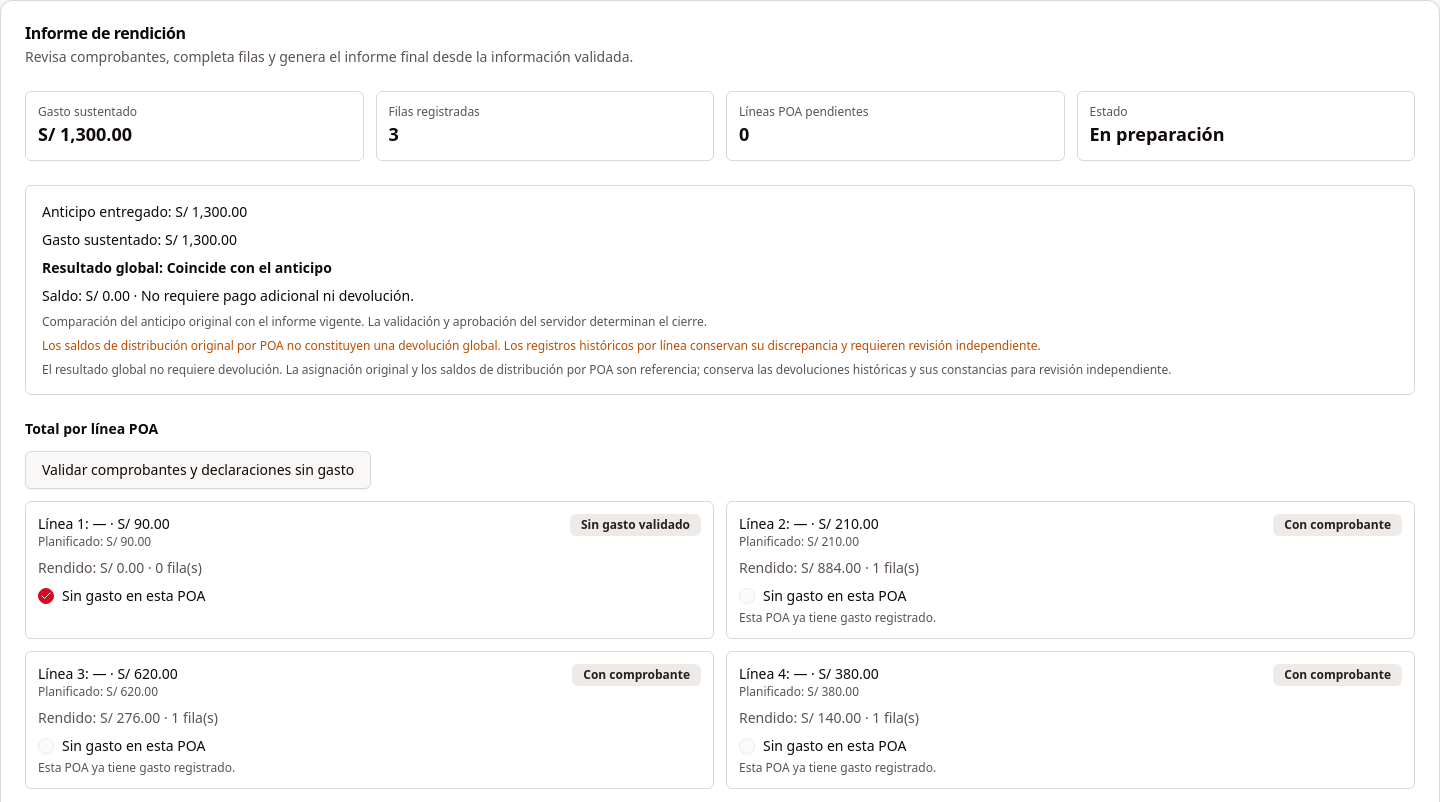
Test case: ZERO card through real request hooks and fetch wrapper › does not require line proof for global EXACT and leaves dirty global instructions pending
Expected: the text "Resultado global: Coincide con el anticipo" is shown, [42,258,332,277]
Step 1. Click the 1st checkbox named "Sin gasto en esta POA" → point(46, 596), box [38,588,54,604]
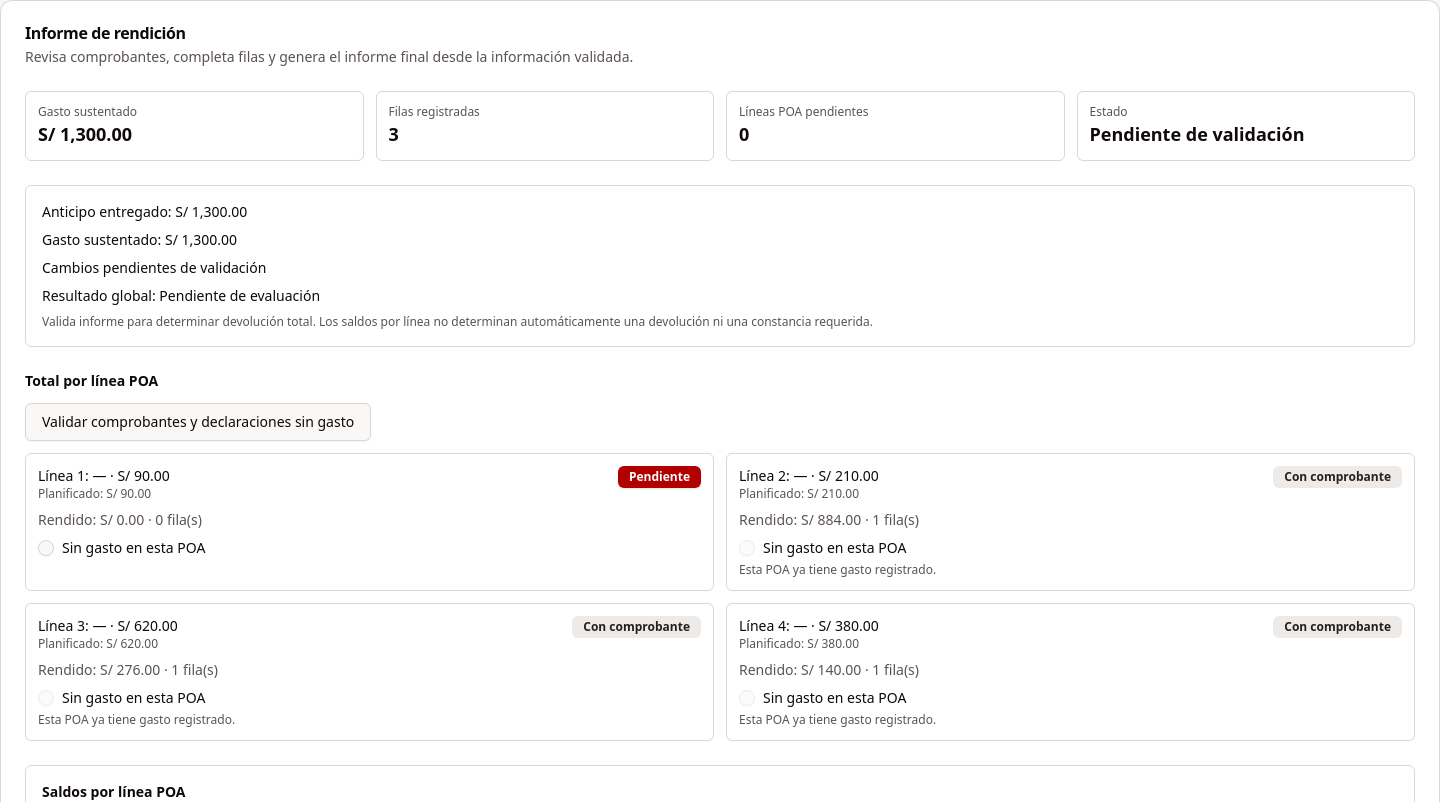
Expected: the text "Valida informe para determinar devolución total" below "Cambios pendientes de validación" is shown, [42,313,873,330]
